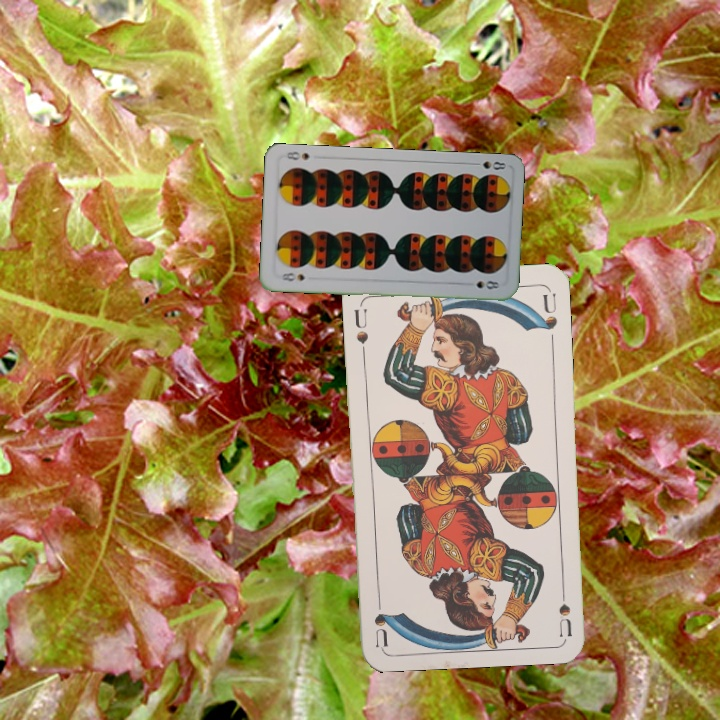S8: (468, 157, 508, 172), (277, 269, 307, 284)
SU: (554, 578, 574, 637), (350, 305, 370, 346)
